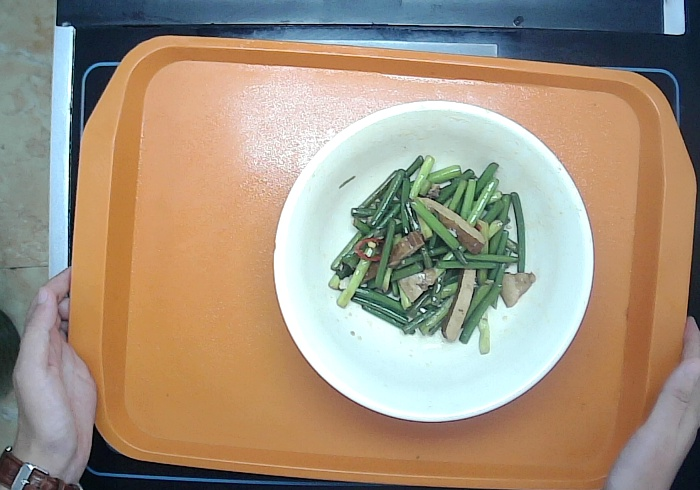ZNLD-Da_Tang_Wan: (271, 98, 596, 424)
